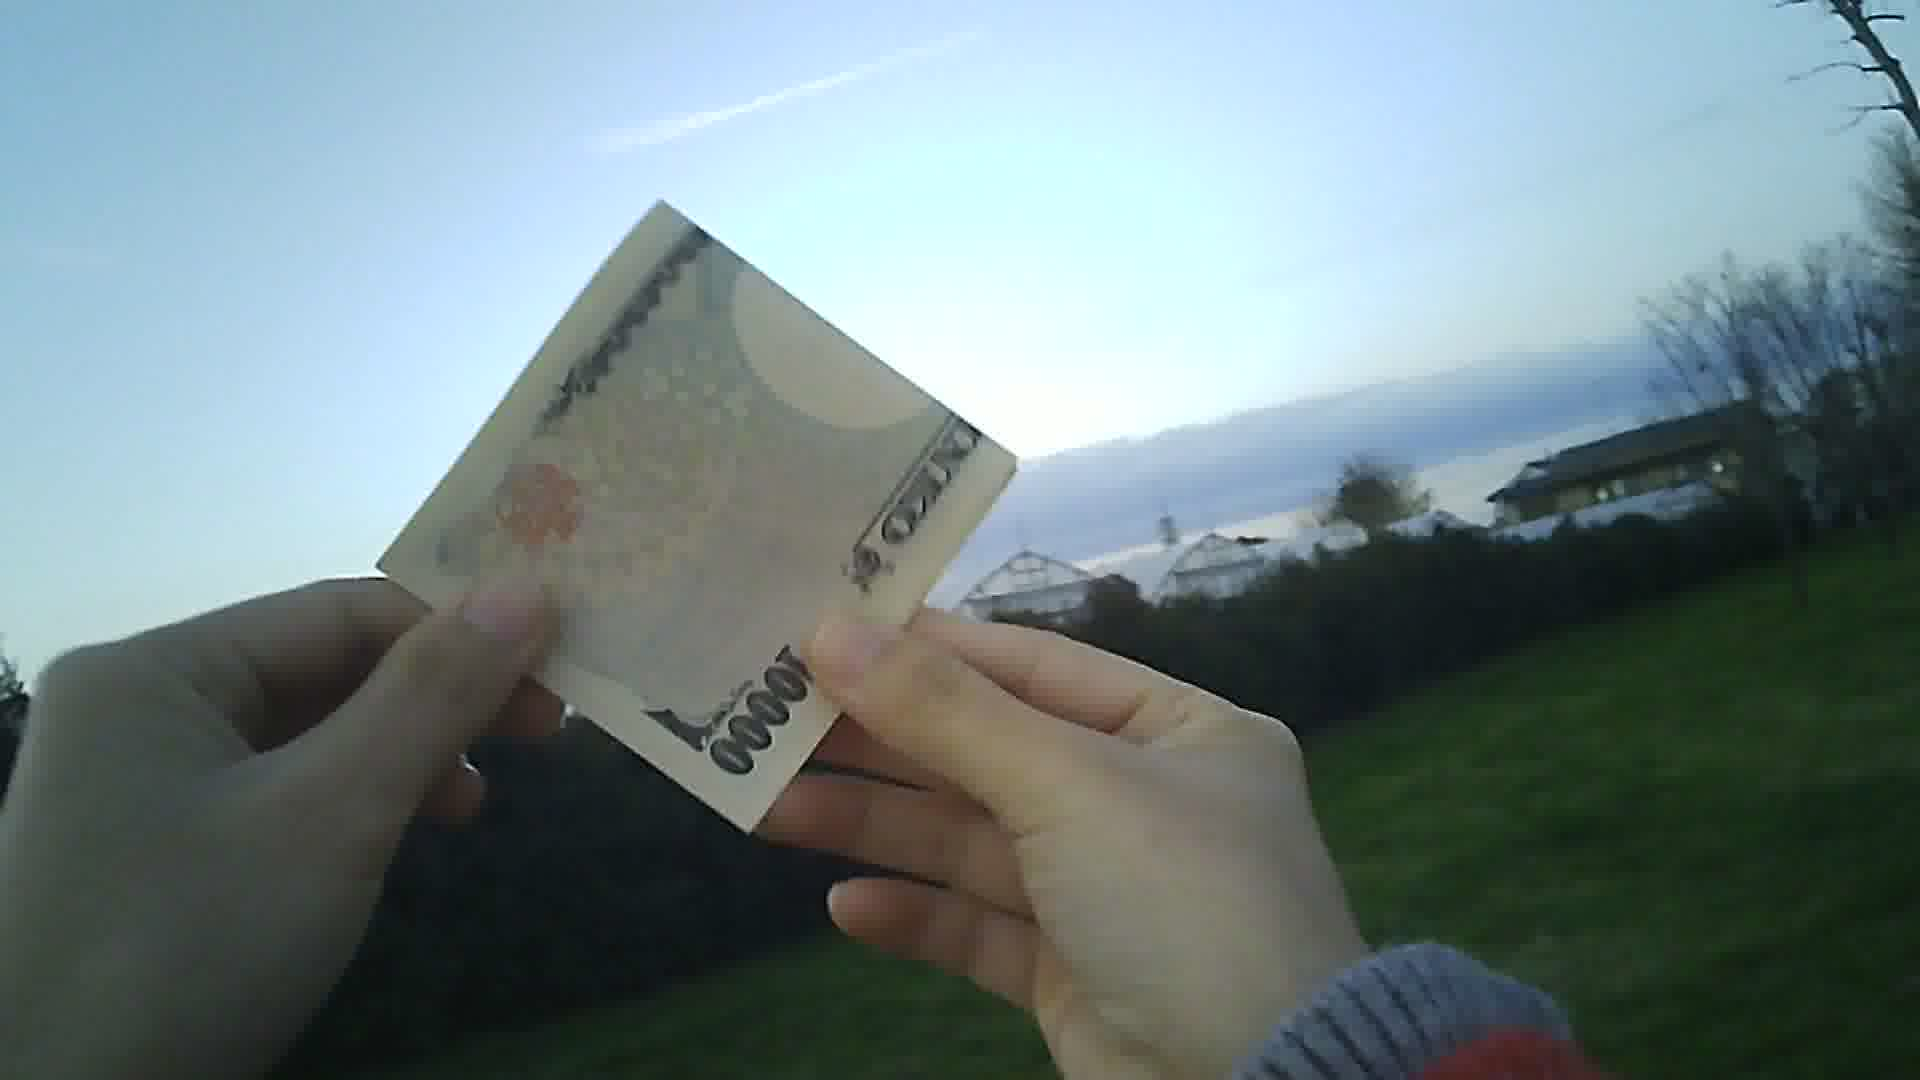10,000 Yen: (382, 193, 1081, 852)
